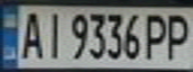3: (87, 9, 109, 61), (106, 9, 127, 61)
6: (121, 10, 145, 61)
9: (66, 9, 90, 60)
A: (15, 8, 45, 61)
I: (39, 8, 66, 61)
P: (142, 10, 172, 61), (163, 10, 193, 61)
